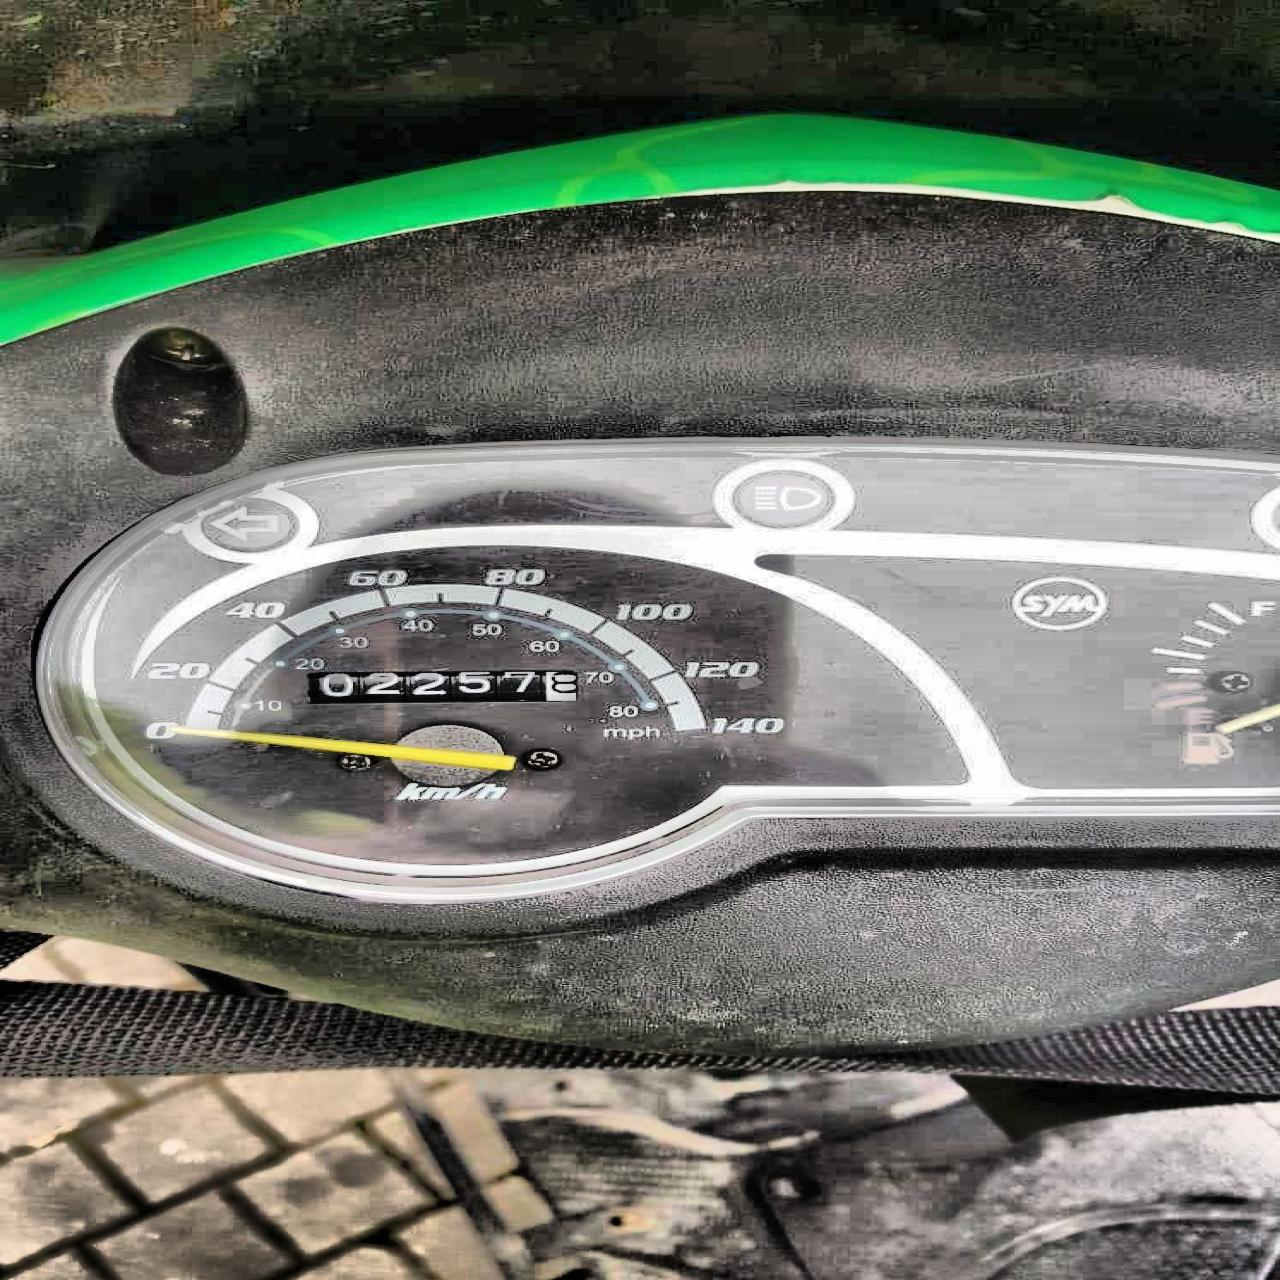0: (315, 670, 352, 696)
2: (360, 670, 401, 696), (409, 670, 445, 694)
5: (454, 669, 489, 694)
7: (502, 669, 536, 694)
8: (545, 672, 581, 696)
odometer: (305, 667, 586, 707)
